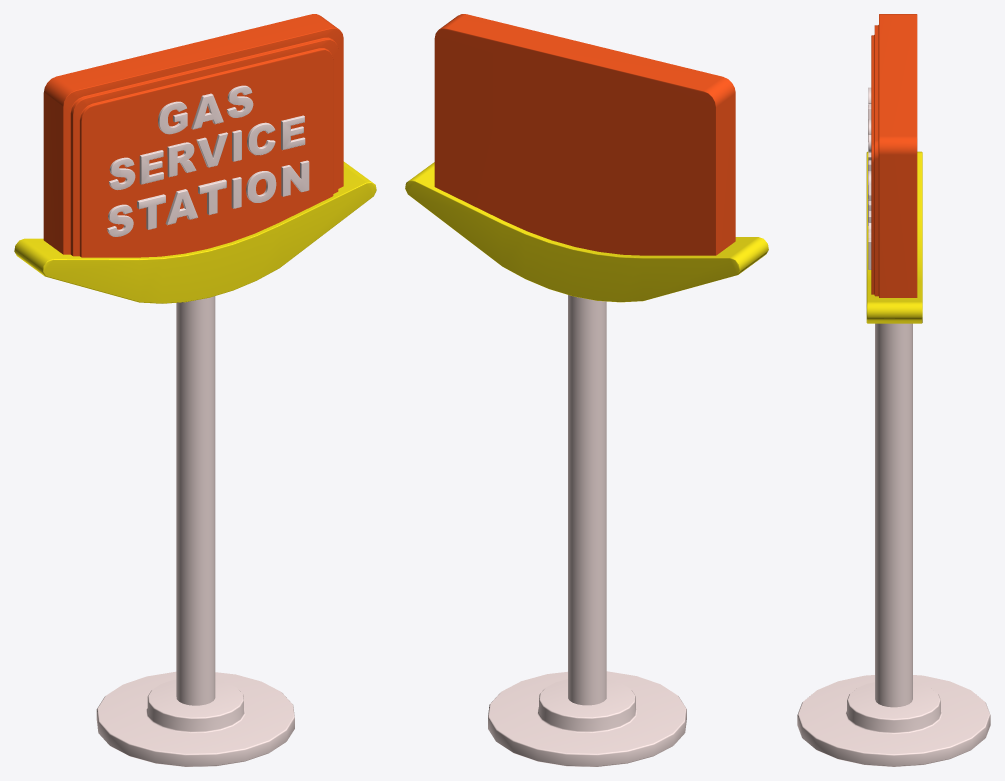
The model's file is Public_5_Gas_Sign_1.glb.
The picture shows the model from 3 angles, left to right: view 1: azimuth 30°, elevation 25°; view 2: azimuth 150°, elevation 25°; view 3: azimuth 270°, elevation 25°; orthographic projection. The views are drawn at different scales.
Parts seen in each view (by area): view 1: Public_5_Gas_Sign_1; view 2: Public_5_Gas_Sign_1; view 3: Public_5_Gas_Sign_1.
Boxes of the visible parts, <box> form: Public_5_Gas_Sign_1: <box>14,14,376,766</box>; Public_5_Gas_Sign_1: <box>405,14,768,766</box>; Public_5_Gas_Sign_1: <box>797,14,990,766</box>.
Bounding box in the file's own units: 4.57 × 8.77 × 2.36.
1 material, 1 textured.
